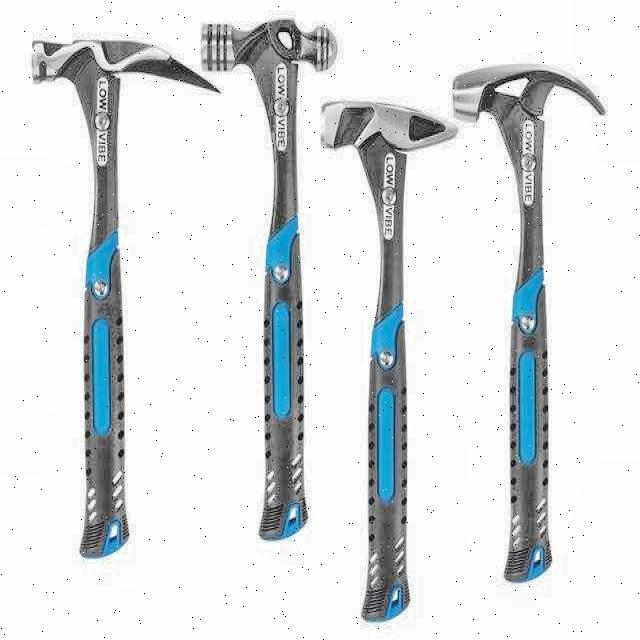hammer: (30, 38, 222, 567), (453, 59, 606, 585), (201, 14, 341, 544), (321, 94, 459, 631)
